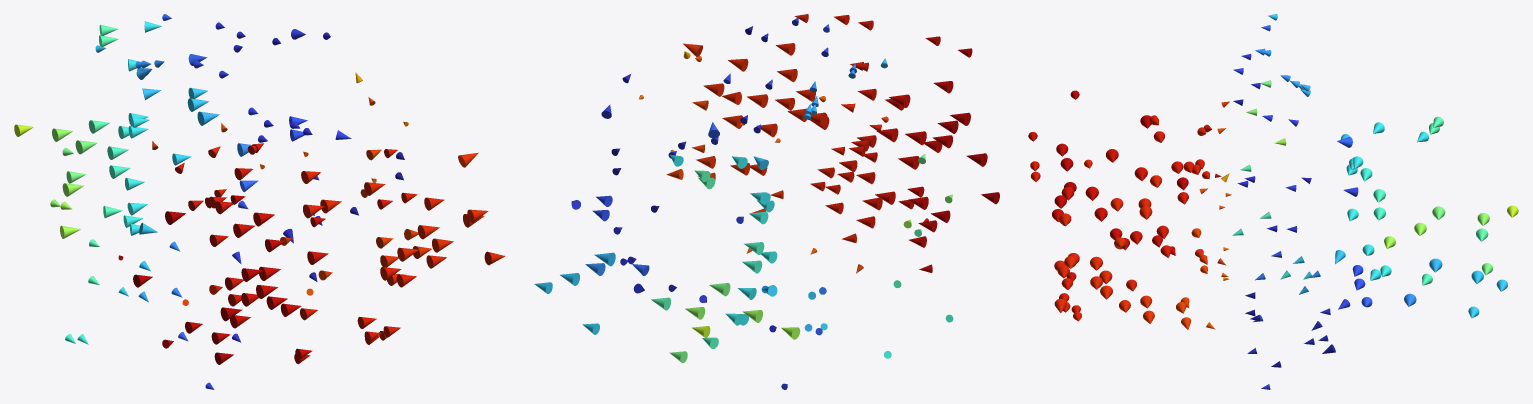
Rendered from LineasCorrienteH2-O2_mh2-1.38_V-0.7.glb.
3 renders of one model, left to right at view 1: azimuth 30°, elevation 25°; view 2: azimuth 150°, elevation 25°; view 3: azimuth 270°, elevation 25°, orthographic. The views are drawn at different scales.
Size of the model in its own units: 0.000922 by 0.00096 by 0.00123.
Materials: 2 (2 with a texture image).
